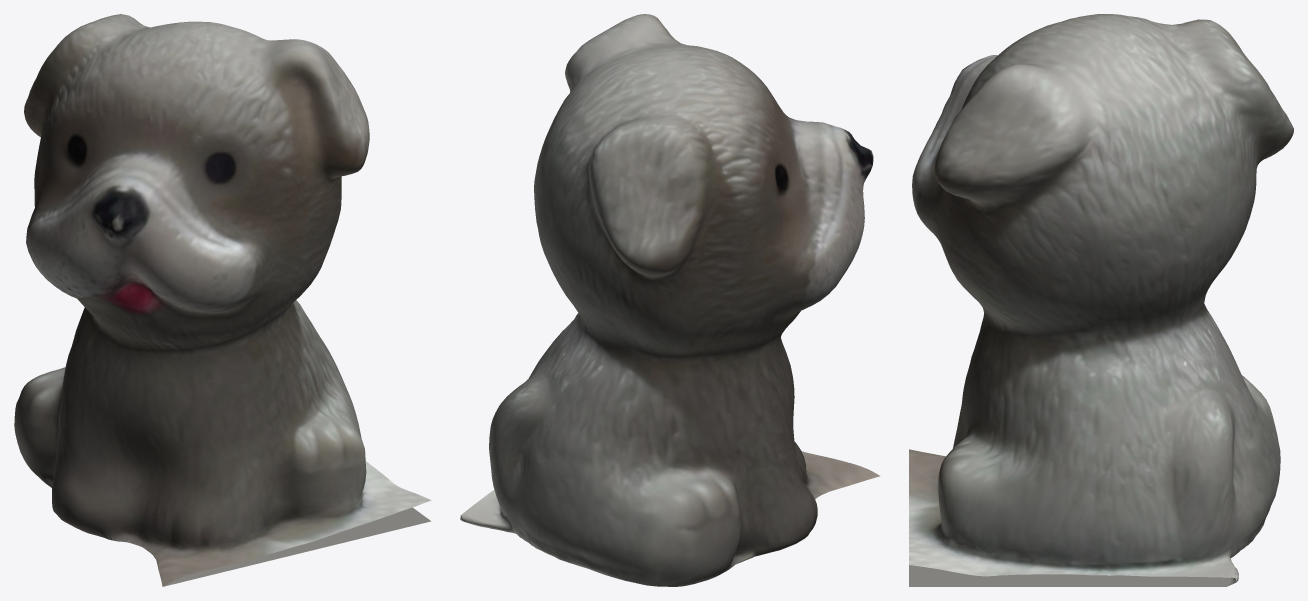
Rendered from perro10in.glb.
The picture shows the model from 3 angles, left to right: view 1: azimuth 30°, elevation 25°; view 2: azimuth 150°, elevation 25°; view 3: azimuth 270°, elevation 25°; orthographic projection. The views are drawn at different scales.
Visible parts, largest first — view 1: 3DModel; view 2: 3DModel; view 3: 3DModel.
Part boxes in pixels (x1,y1,x2,y2): 3DModel: [14, 14, 431, 586]; 3DModel: [460, 14, 880, 586]; 3DModel: [909, 14, 1293, 586].
Size of the model in its own units: 2.13 by 3.01 by 2.19.
Materials: 1 (1 with a texture image).
